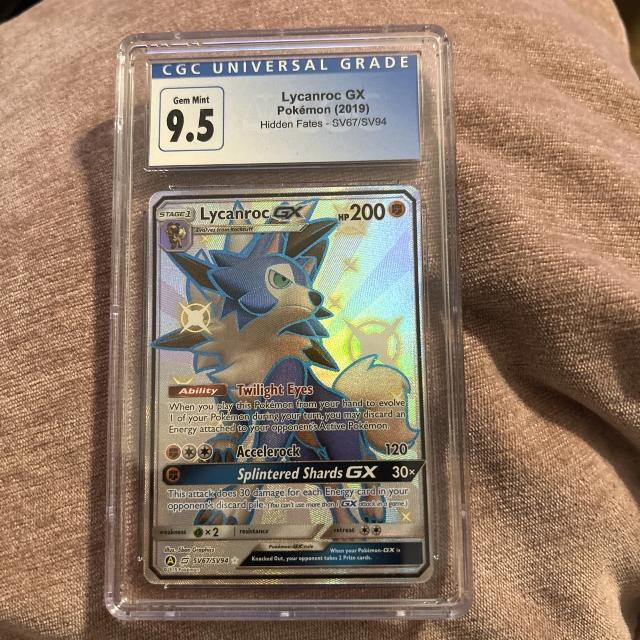Card: (139, 181, 441, 592)
Name: (195, 200, 311, 228)
